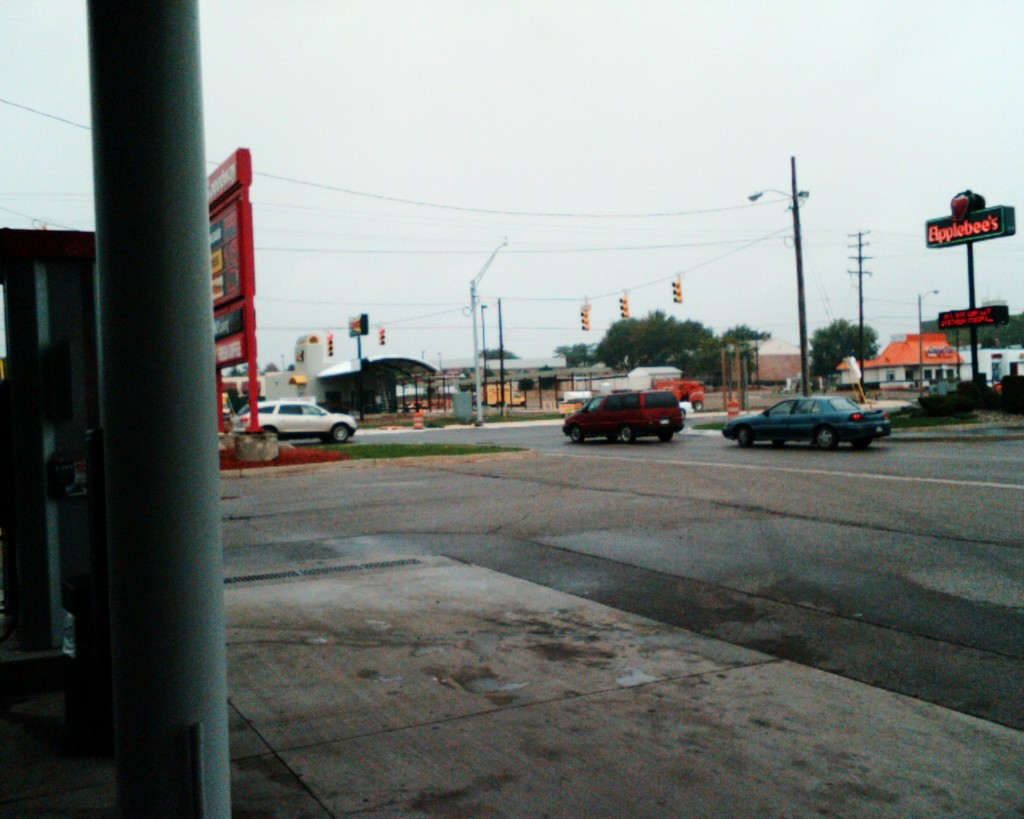Car: (719, 383, 902, 453), (230, 393, 359, 443), (571, 391, 684, 437), (650, 376, 705, 408)
